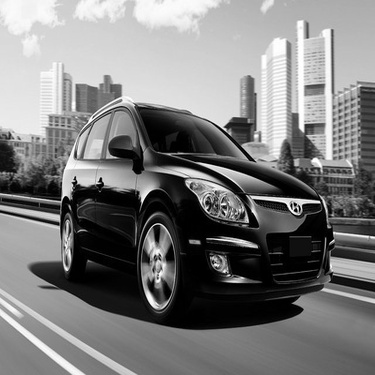car: (42, 90, 347, 328)
